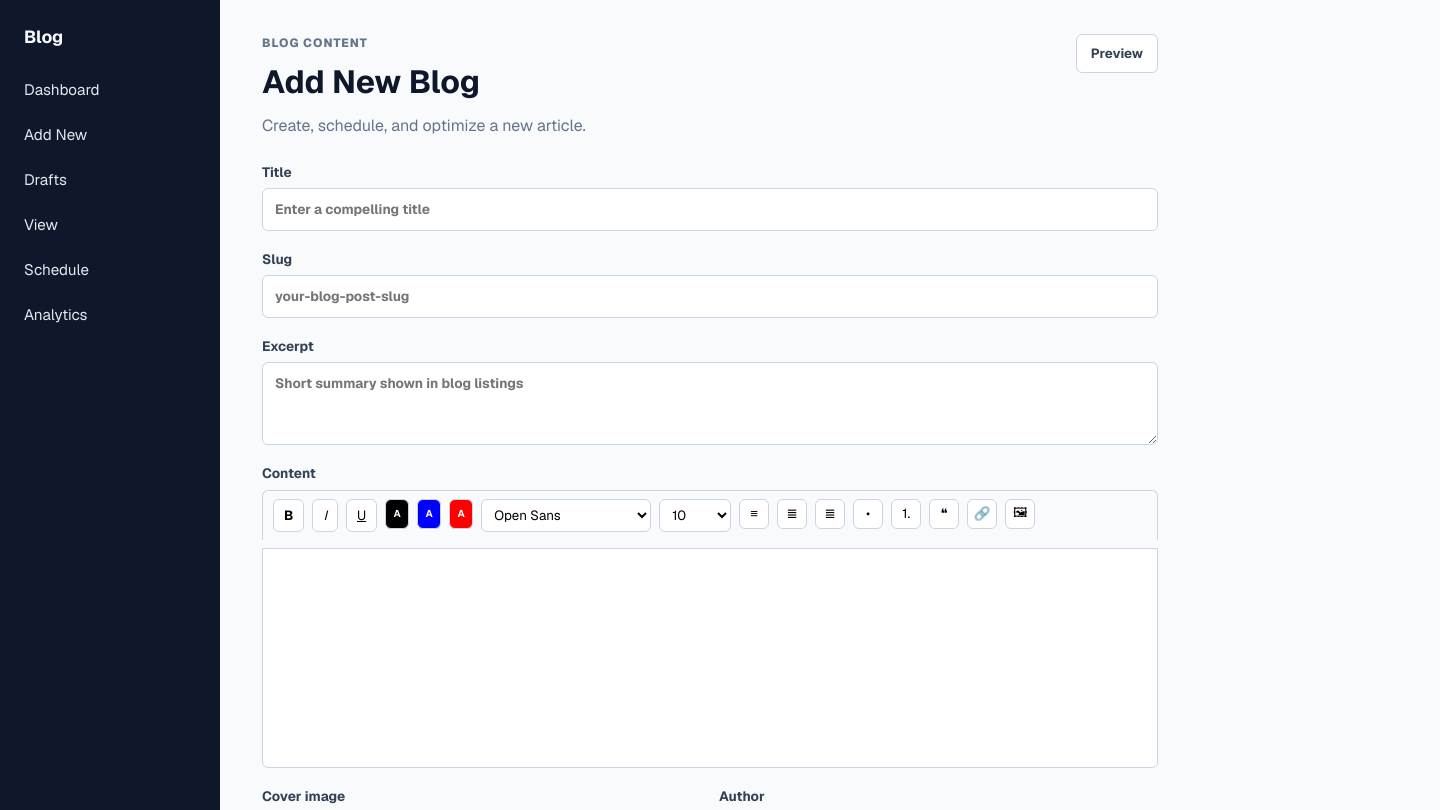
Scenario: AppRoutes › falls back to an inline URL dialog when prompt() is unavailable
This screenshot has width=1440, height=810.
Click the button named "Image" at (1020,514), box top-left (1005, 498), bottom-right (1035, 528)
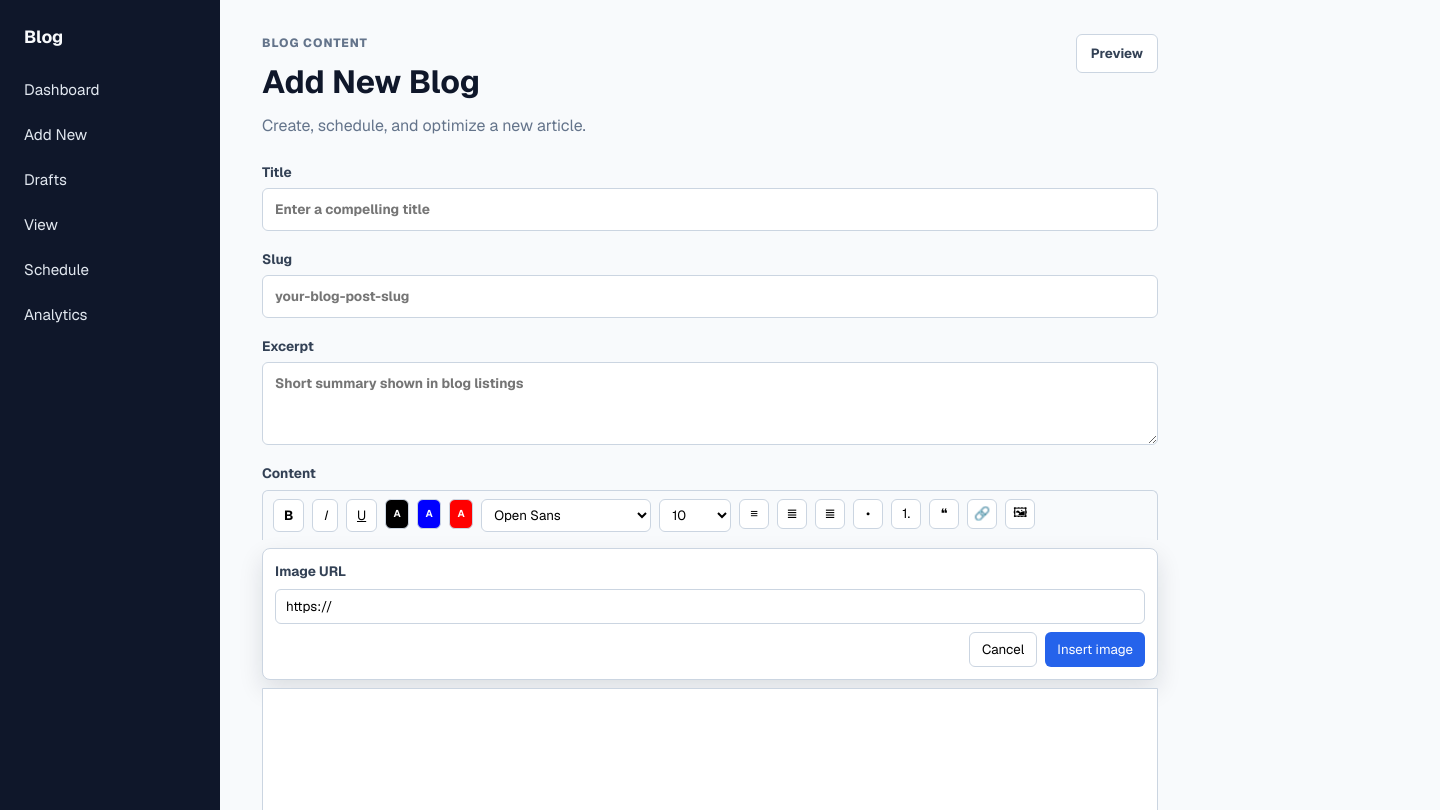
expect the dialog named "Image URL dialog" is shown: met, box top-left (262, 548), bottom-right (1158, 680)
